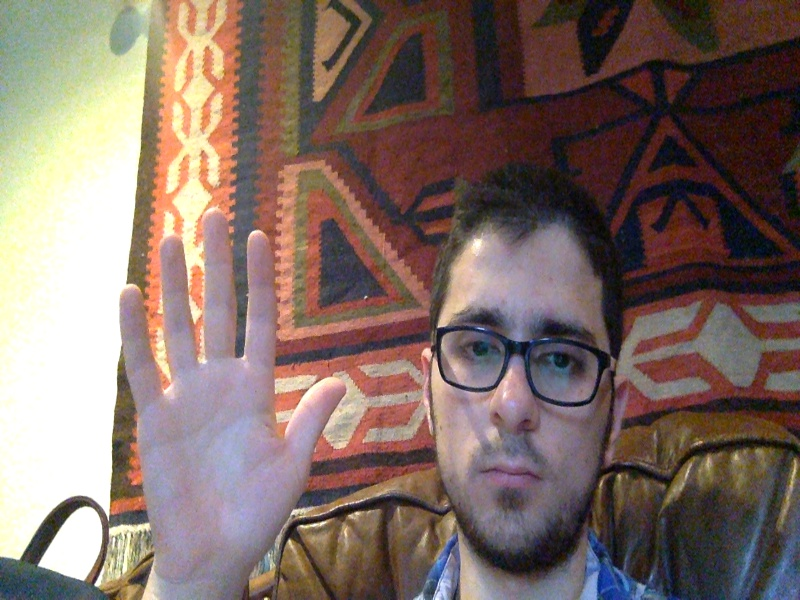5-hand: (119, 210, 344, 584)
